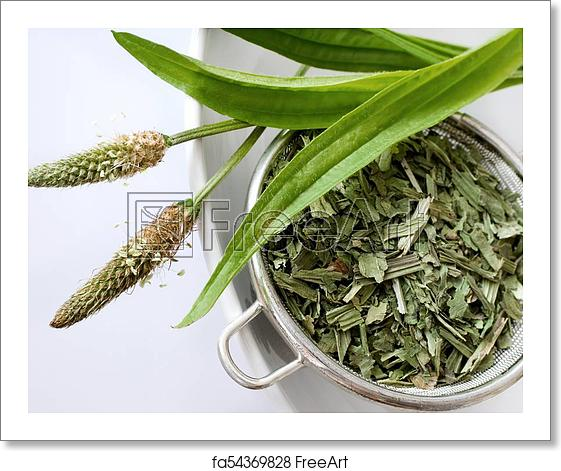buckhorn plantain: (46, 196, 208, 341), (26, 140, 188, 184)
